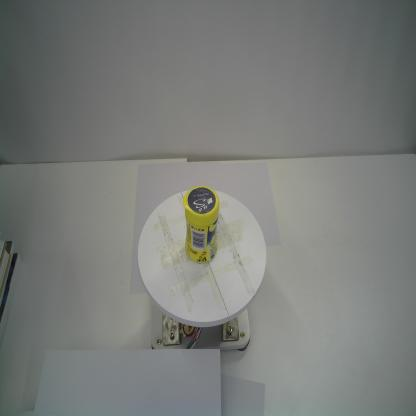Gum: (182, 185, 219, 264)
